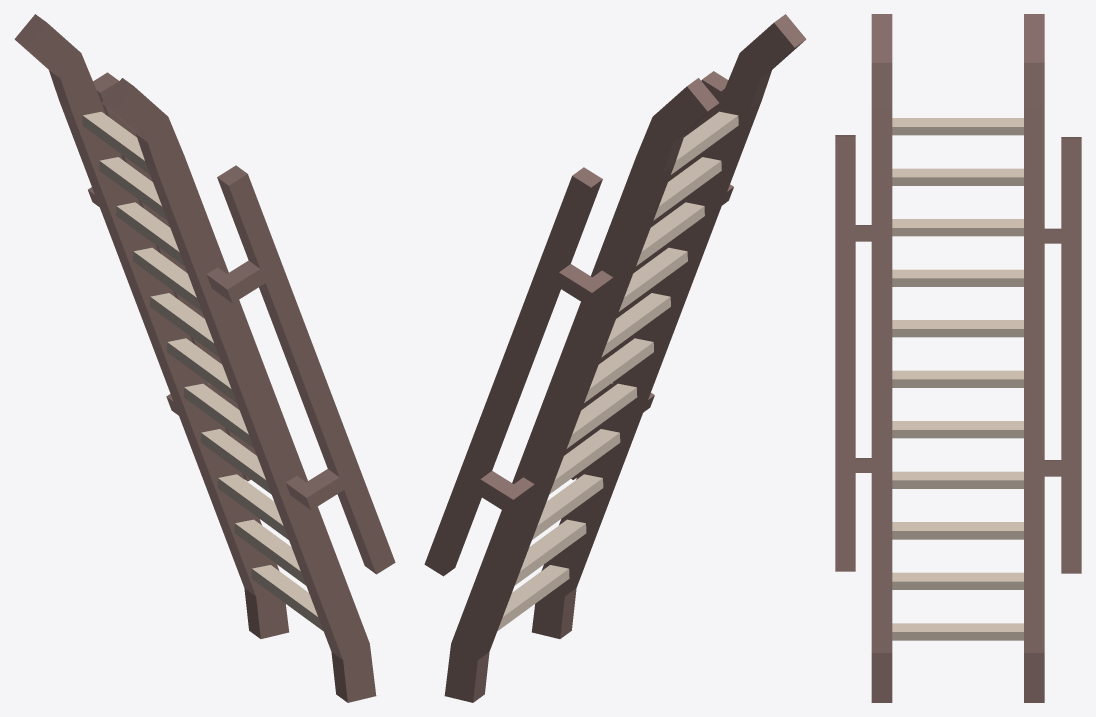
The model's file is ladder.fbx.
The picture shows the model from 3 angles, left to right: view 1: azimuth 30°, elevation 25°; view 2: azimuth 150°, elevation 25°; view 3: azimuth 270°, elevation 25°; orthographic projection. The views are drawn at different scales.
Visible parts, largest first — view 1: Cube.001; view 2: Cube.001; view 3: Cube.001.
Part boxes in pixels (left/top/right/bottom): Cube.001: left=14, top=14, right=395, bottom=702; Cube.001: left=424, top=14, right=806, bottom=702; Cube.001: left=835, top=14, right=1081, bottom=702.
Bounding box in the file's own units: 194 × 472 × 180.
